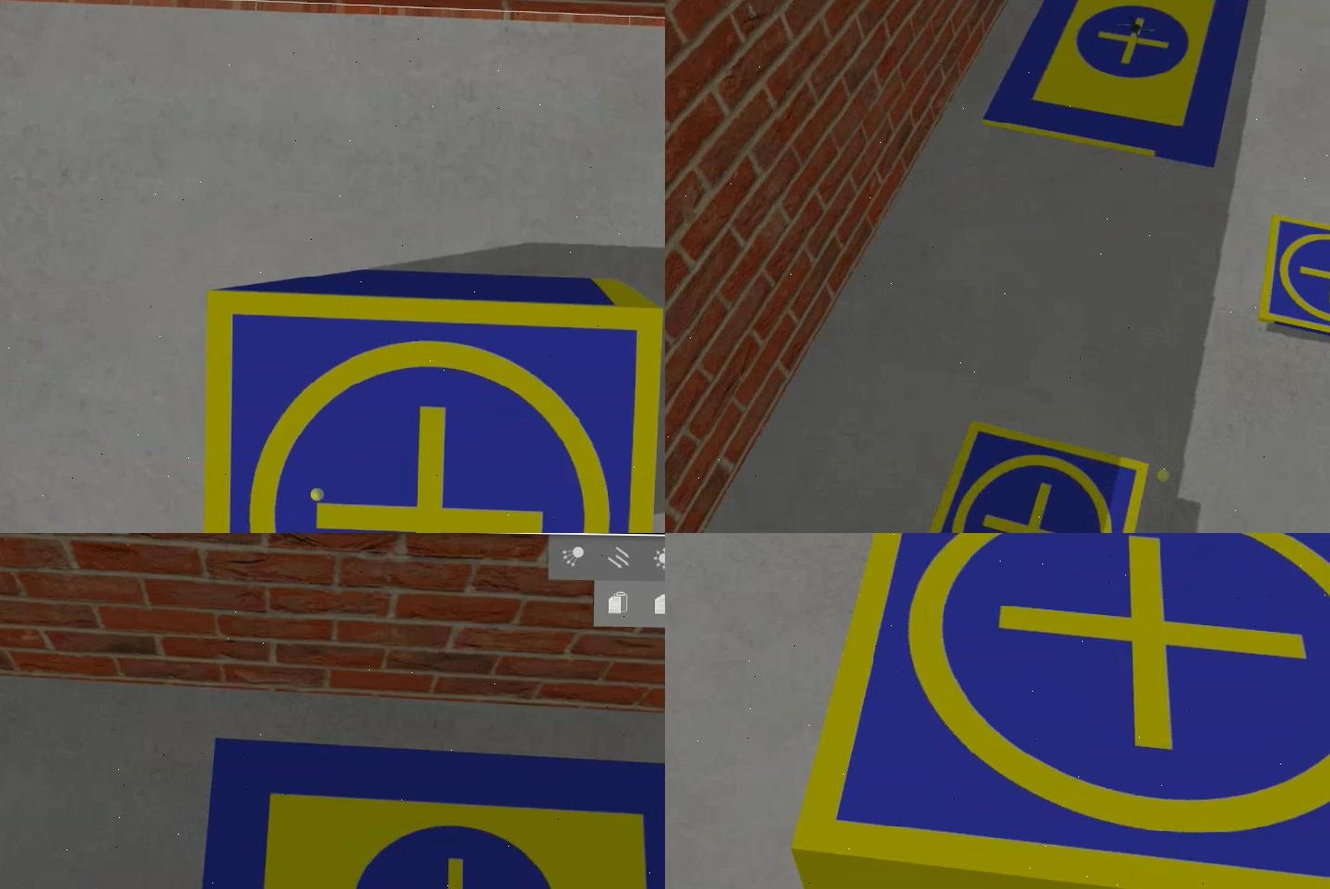large_base: (179, 738, 663, 889), (985, 1, 1254, 171)
small_base: (784, 534, 1328, 889), (203, 286, 663, 534), (896, 422, 1149, 534), (1260, 217, 1328, 350)
